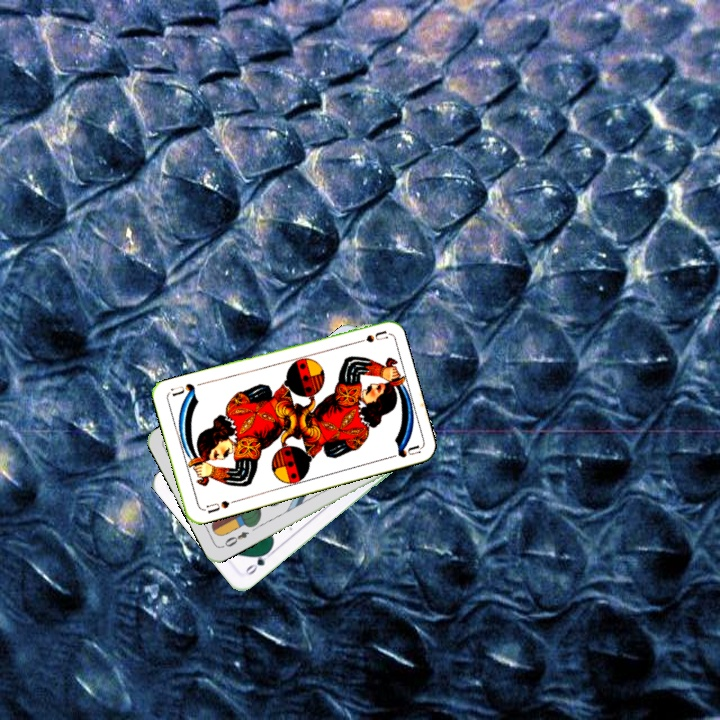EO: (218, 527, 251, 550)
GO: (241, 546, 275, 578)
SU: (348, 327, 389, 347), (199, 496, 239, 516)
